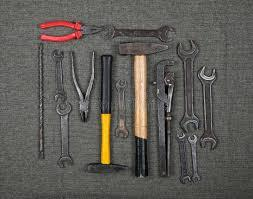wrench: (174, 38, 200, 131), (195, 63, 218, 150), (99, 23, 175, 41), (53, 101, 73, 168), (50, 48, 67, 101), (113, 78, 128, 137), (174, 131, 190, 184), (186, 132, 198, 181)
